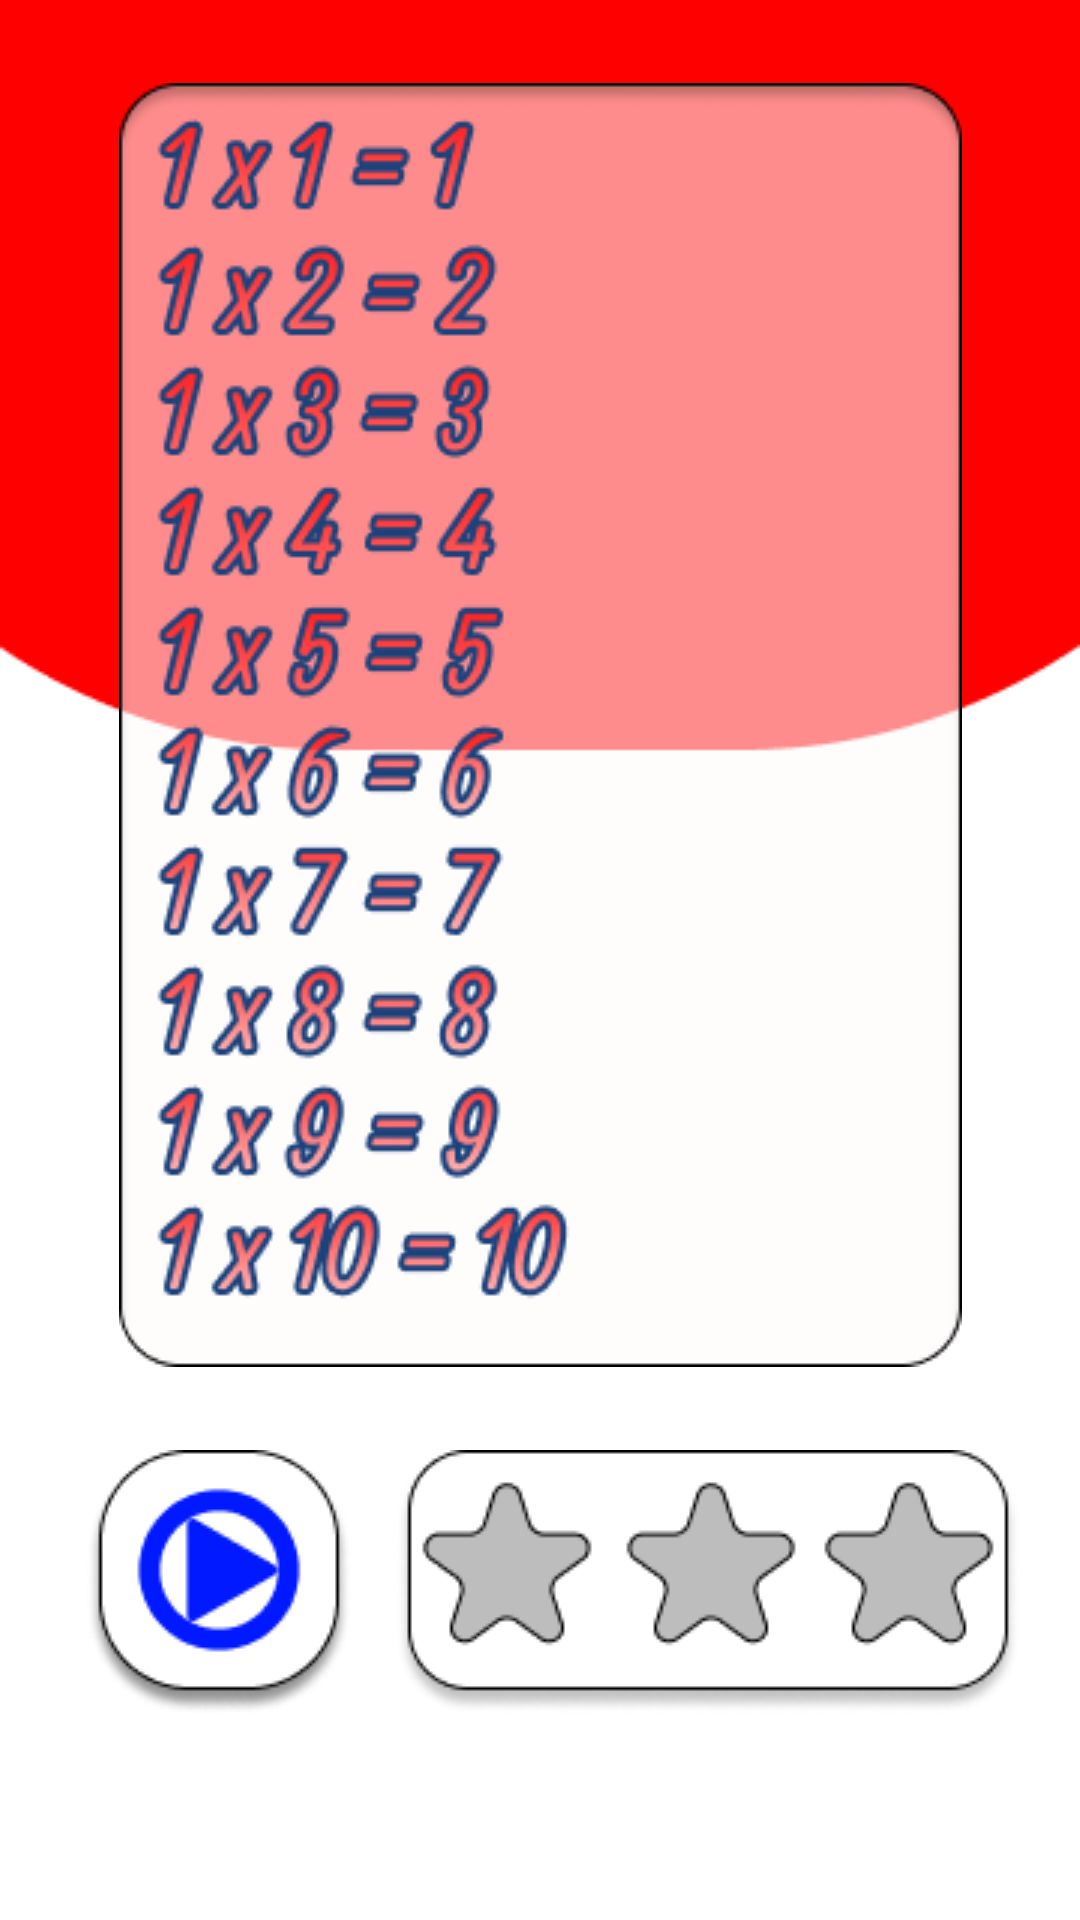

Icons on this 1080px x 1920px Android screen, each with the point to tap as (x,y):
playdos: (219,1578)
